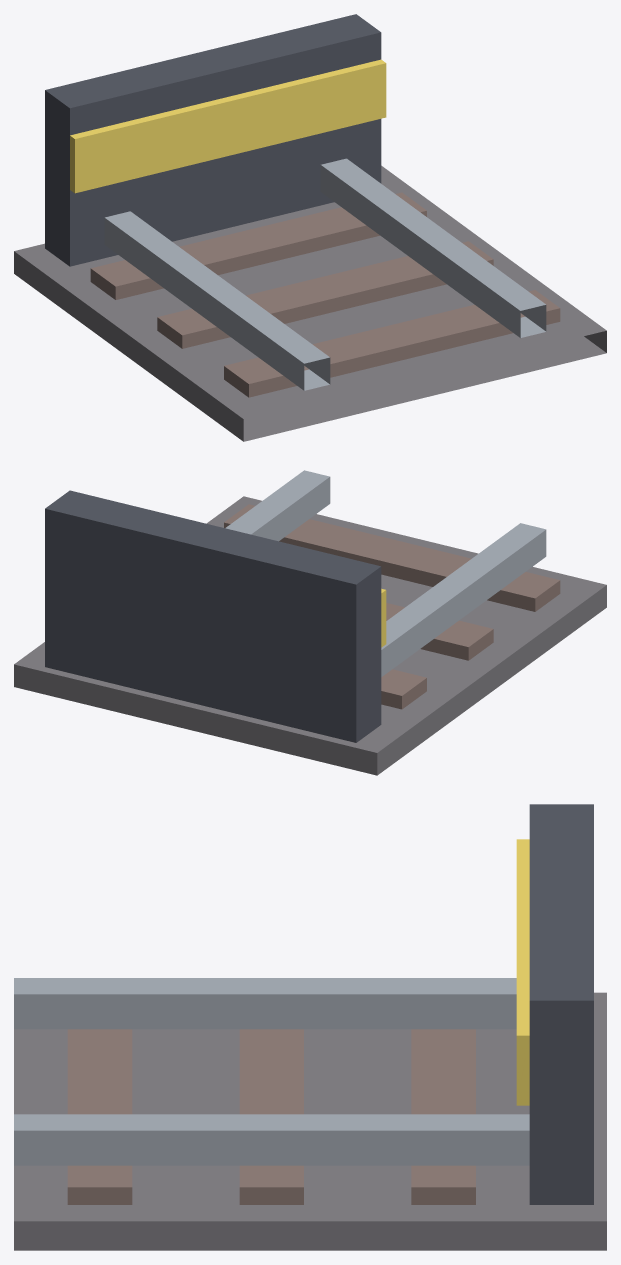
The model's file is trilho_fim.glb.
3 renders of one model, top to bottom at view 1: azimuth 30°, elevation 25°; view 2: azimuth 150°, elevation 25°; view 3: azimuth 270°, elevation 25°, orthographic. The views are drawn at different scales.
Visible parts, largest first — view 1: trilho_fim; view 2: trilho_fim; view 3: trilho_fim.
Boxes of the visible parts, x1,y1,x2,y2 form: trilho_fim: (14,14,606,441); trilho_fim: (14,470,606,775); trilho_fim: (14,804,606,1250).
Size of the model in its own units: 0.84 by 0.4 by 0.92.
